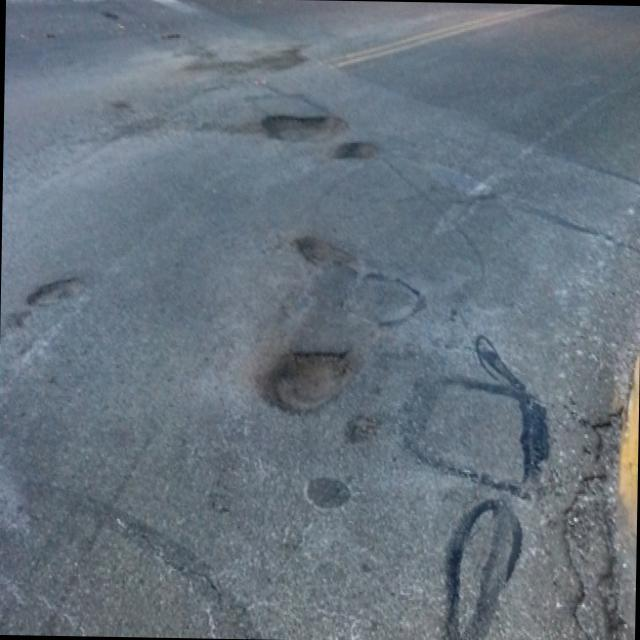Pothole: (267, 342, 351, 415), (258, 107, 349, 142), (291, 232, 353, 276), (28, 272, 84, 310), (338, 133, 375, 168)
